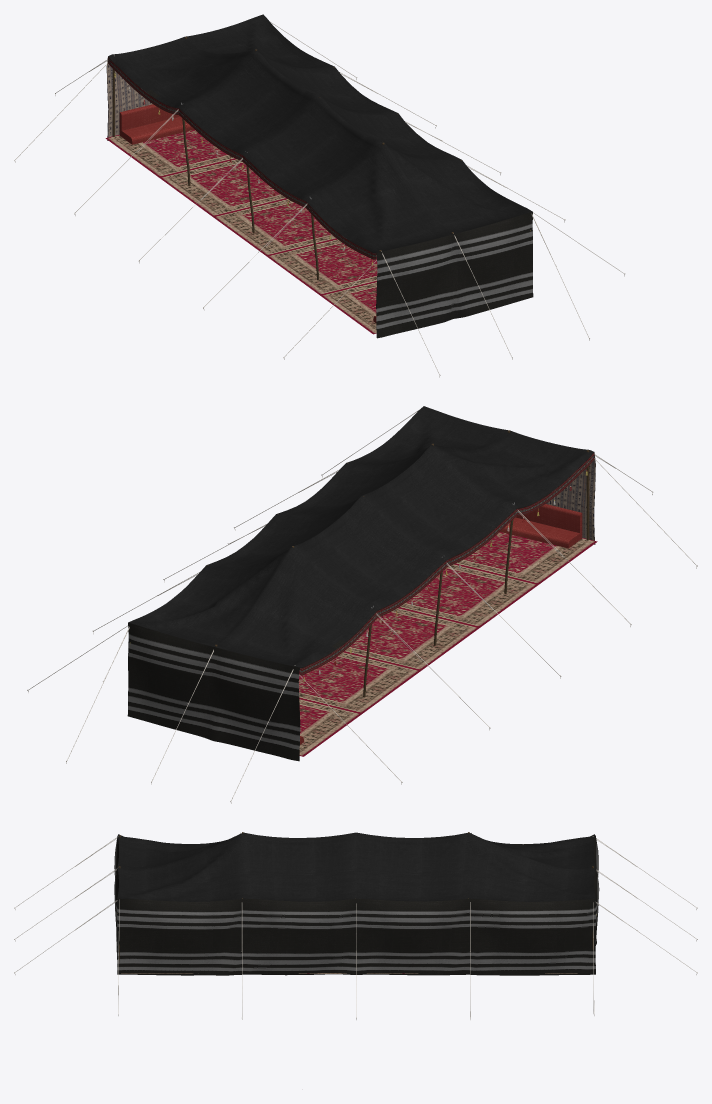
File: tent.fbx
3 renders of one model, top to bottom at view 1: azimuth 30°, elevation 25°; view 2: azimuth 150°, elevation 25°; view 3: azimuth 270°, elevation 25°, orthographic. The views are drawn at different scales.
Parts seen in each view (by area): view 1: Object004, Shape002; view 2: Object004, Shape002; view 3: Object004.
Boxes of the visible parts, x1=… form: Object004: x1=14, y1=14, x2=625, y2=377; Shape002: x1=108, y1=57, x2=530, y2=265; Object004: x1=27, y1=406, x2=697, y2=803; Shape002: x1=130, y1=453, x2=594, y2=681; Object004: x1=14, y1=832, x2=697, y2=1019.
Bounding box in the file's own units: 18.35 × 4.15 × 23.16.
15 materials, 14 textured.
